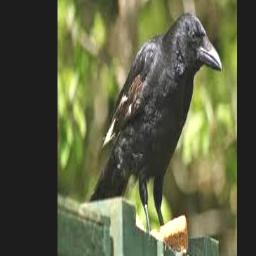Crow: (87, 12, 222, 238)
